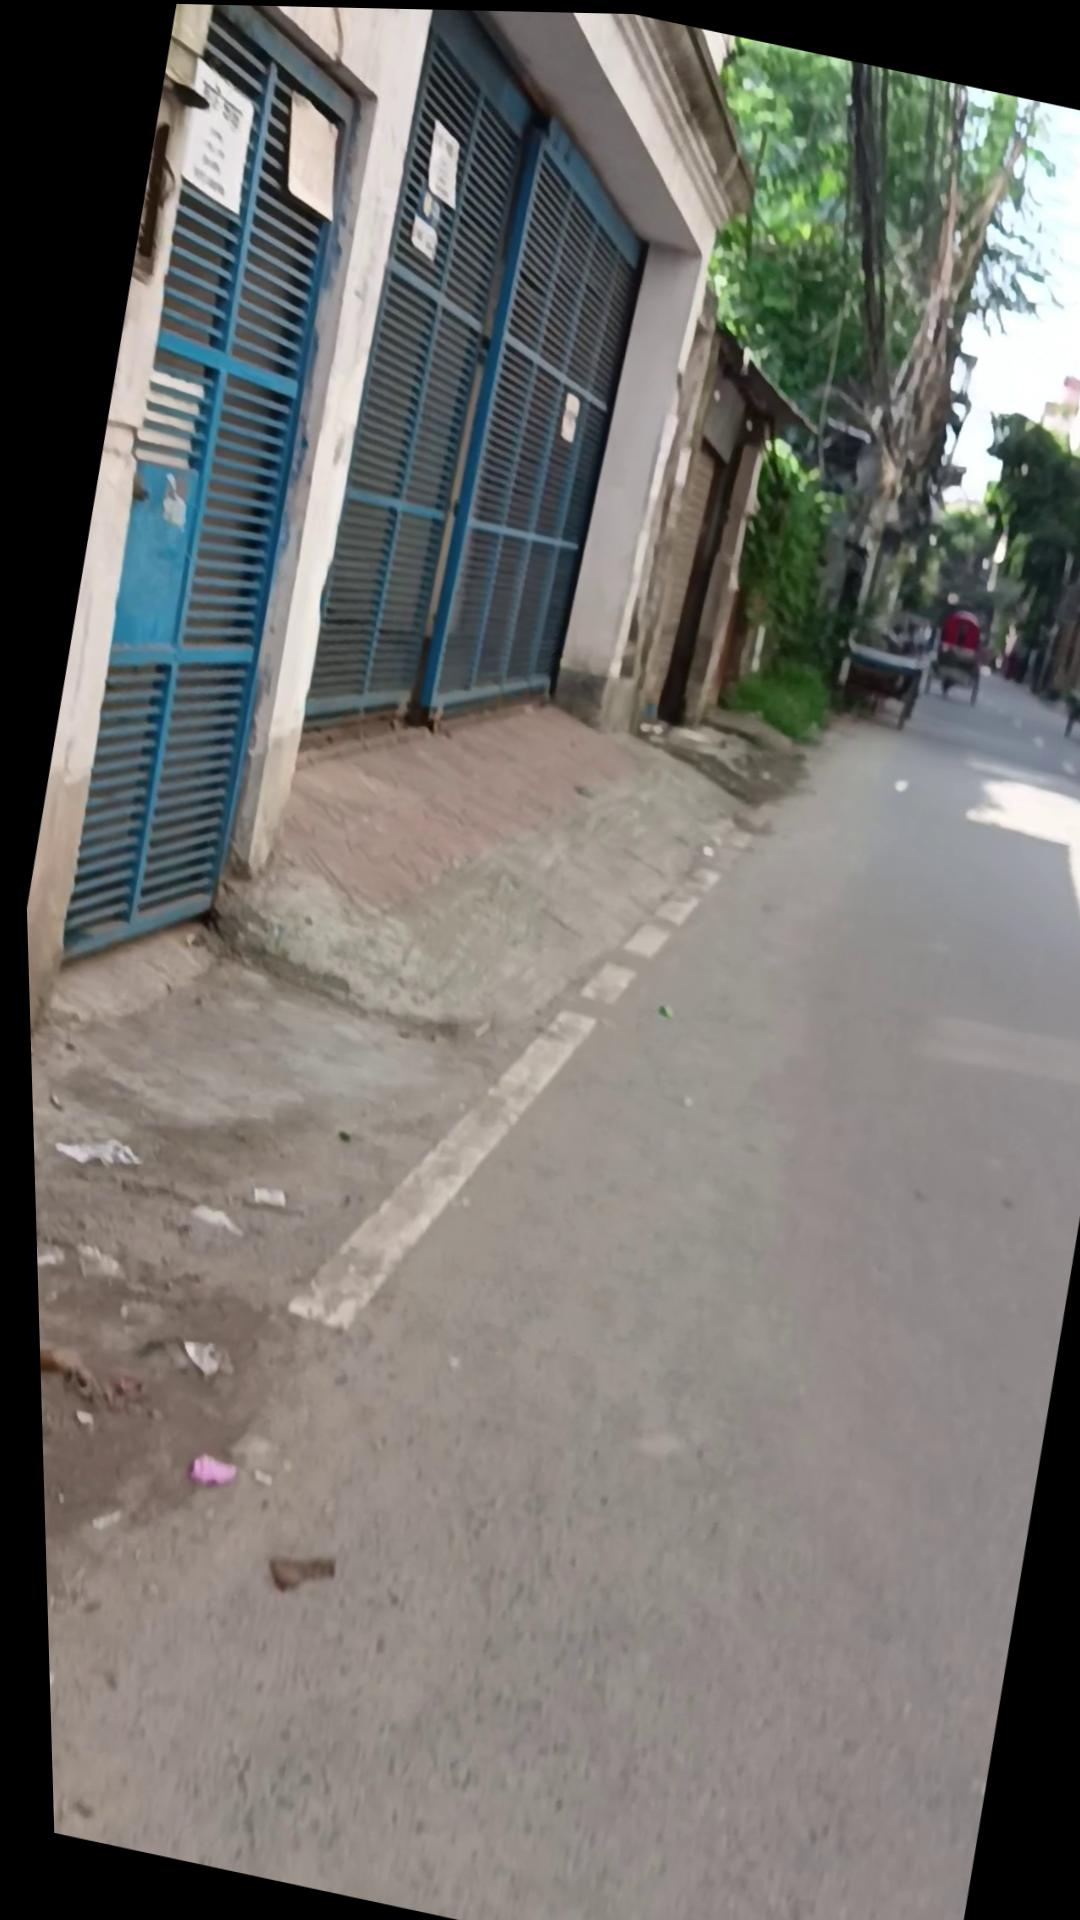Fence: (824, 595, 935, 729), (919, 599, 990, 703)
Garbage: (191, 629, 778, 1089)
Light-pole: (667, 42, 1080, 749), (936, 400, 1080, 692)
Obstacle: (0, 0, 783, 1160)
